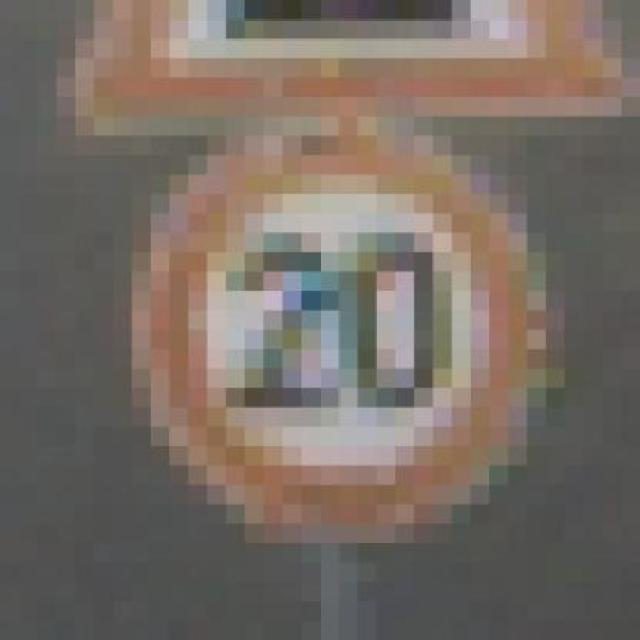forb_speed_over_20: (151, 130, 532, 530)
